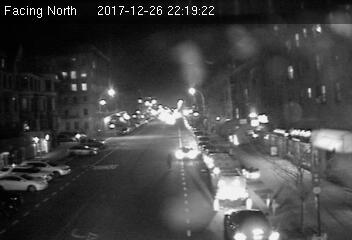car: (223, 207, 275, 240), (174, 145, 200, 162)
truck: (212, 167, 249, 201)
